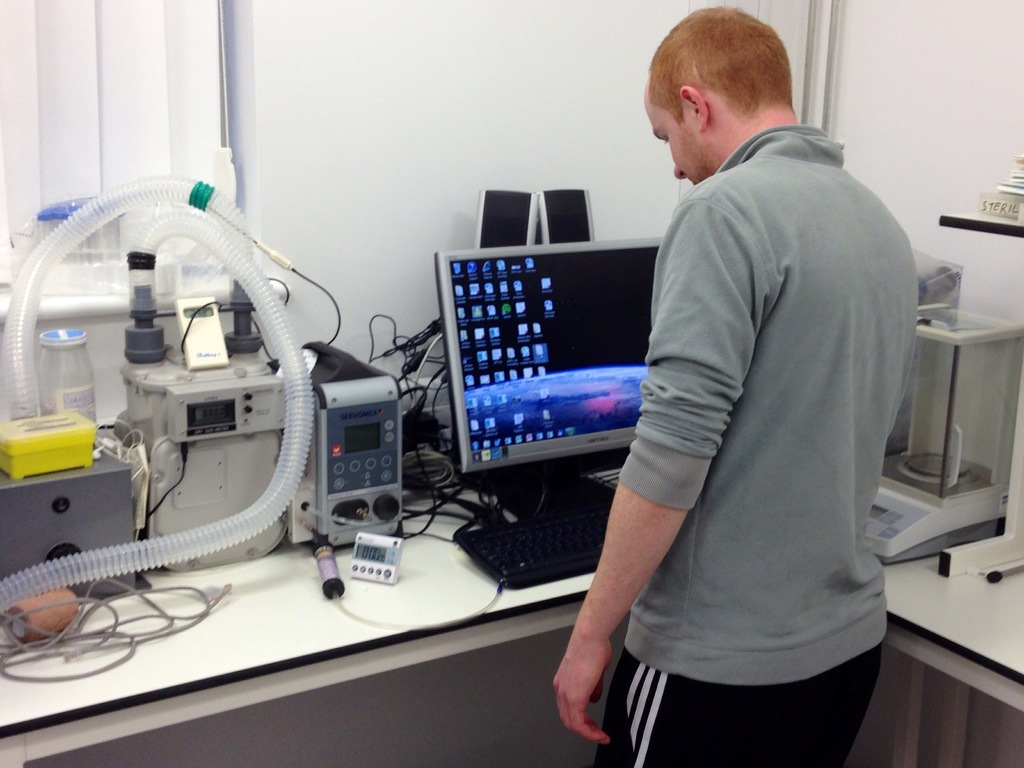Person: (552, 4, 918, 768)
